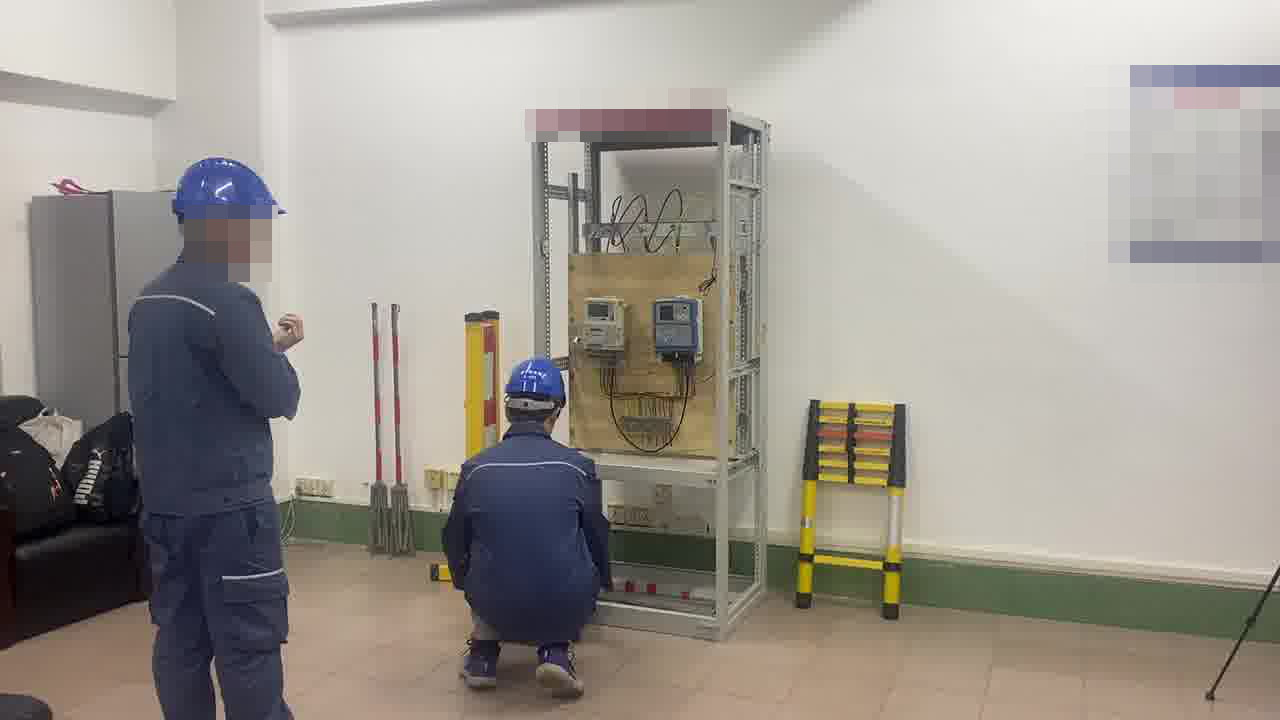downsuit: (148, 519, 296, 720)
halt: (169, 157, 284, 269), (502, 356, 570, 427)
hand: (272, 314, 306, 355)
inear: (192, 207, 247, 253)
person: (125, 155, 310, 720), (445, 354, 612, 703)
upsuit: (126, 253, 303, 506), (448, 431, 607, 643)
